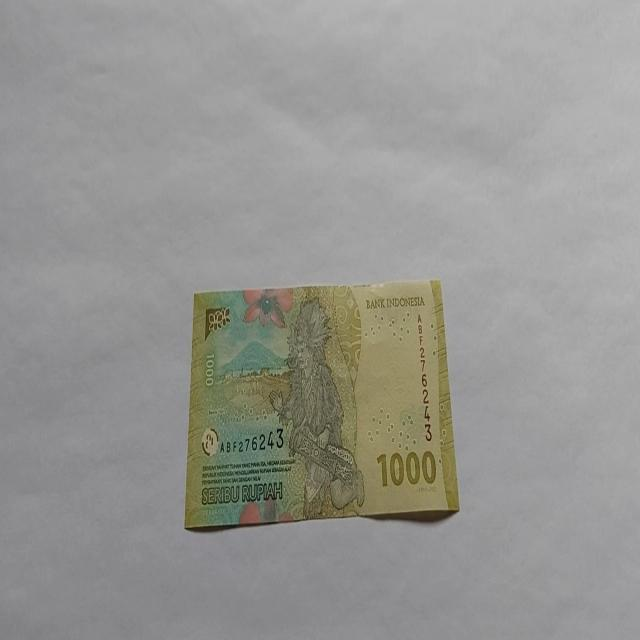seribu rupiah kertas: (183, 277, 460, 531)
